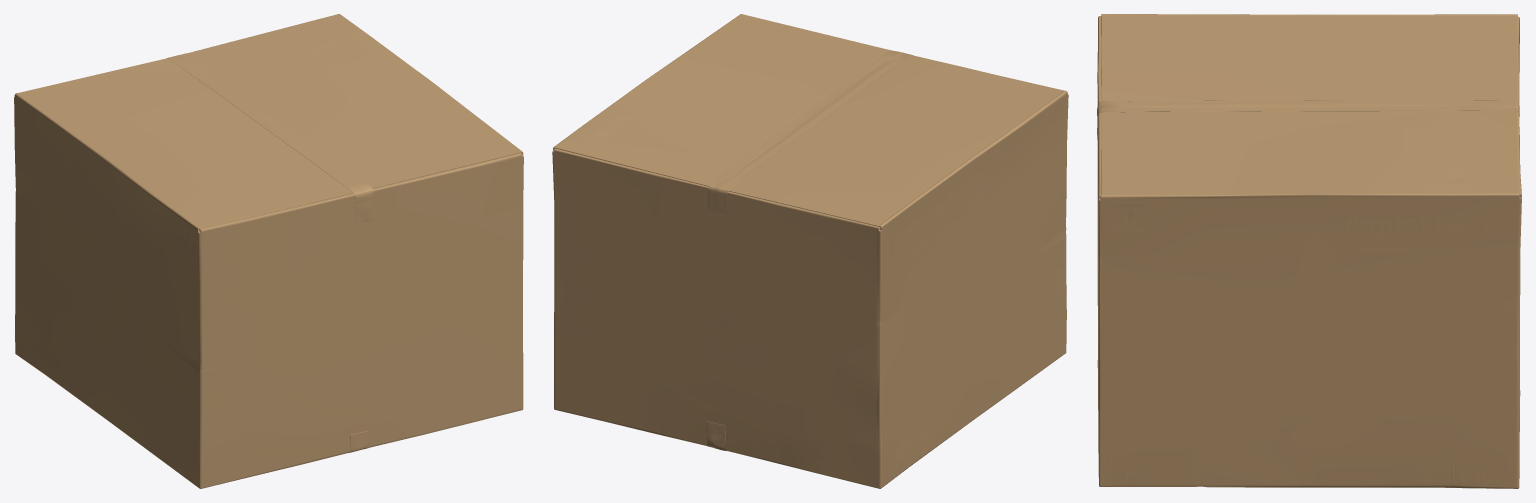
File: box_corrugated_brown_b33.glb
3 renders of one model, left to right at view 1: azimuth 30°, elevation 25°; view 2: azimuth 150°, elevation 25°; view 3: azimuth 270°, elevation 25°, orthographic. The views are drawn at different scales.
Size of the model in its own units: 0.201 by 0.1541 by 0.1996.
